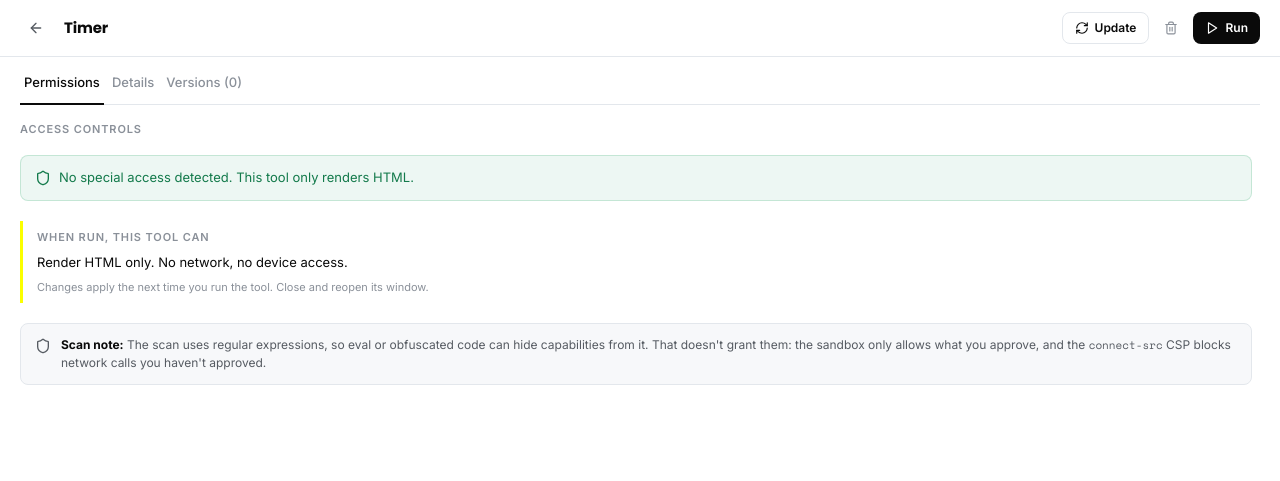
Test case: changing a tool with Codex › is not offered for a tool the person added themselves
Click the button "Update": click(1105, 28) [1062,12,1149,44]
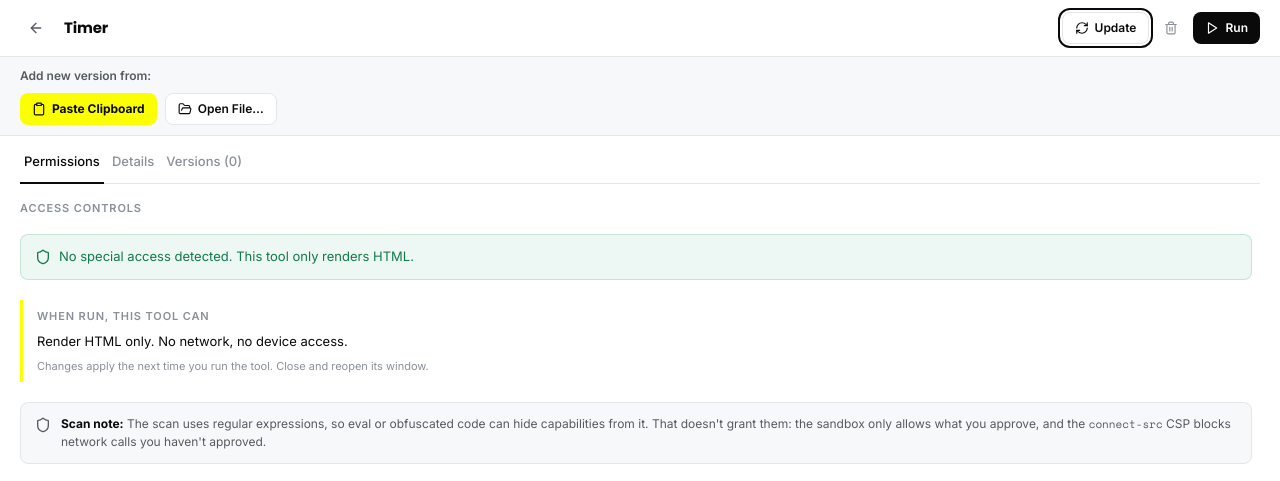
Now the button "Paste Clipboard" is shown, box [20,93,157,125]
